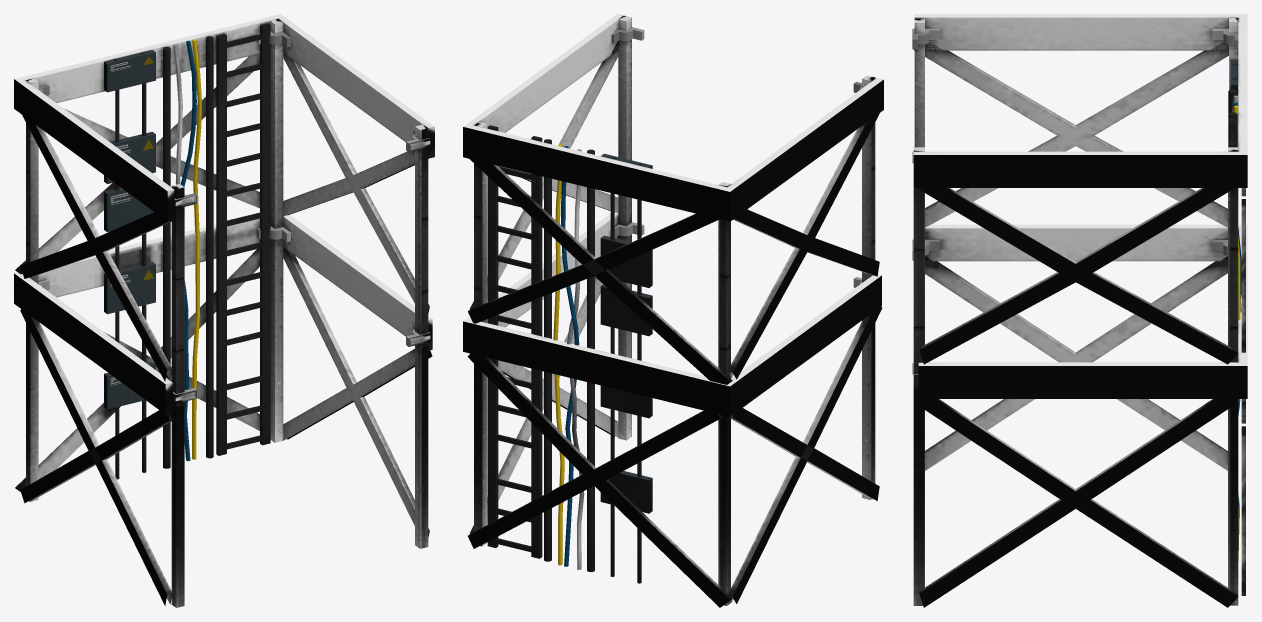
File: Elevator.FBX
3 renders of one model, left to right at view 1: azimuth 30°, elevation 25°; view 2: azimuth 150°, elevation 25°; view 3: azimuth 270°, elevation 25°, orthographic. The views are drawn at different scales.
Parts seen in each view (by area): view 1: EvelatorShaft; view 2: EvelatorShaft; view 3: EvelatorShaft.
Part boxes in pixels (x1=…): EvelatorShaft: x1=14, y1=14, x2=434, y2=607; EvelatorShaft: x1=463, y1=14, x2=883, y2=607; EvelatorShaft: x1=912, y1=14, x2=1247, y2=607.
Bounding box in the file's own units: 256 × 385 × 257.
7 materials, 7 textured.
